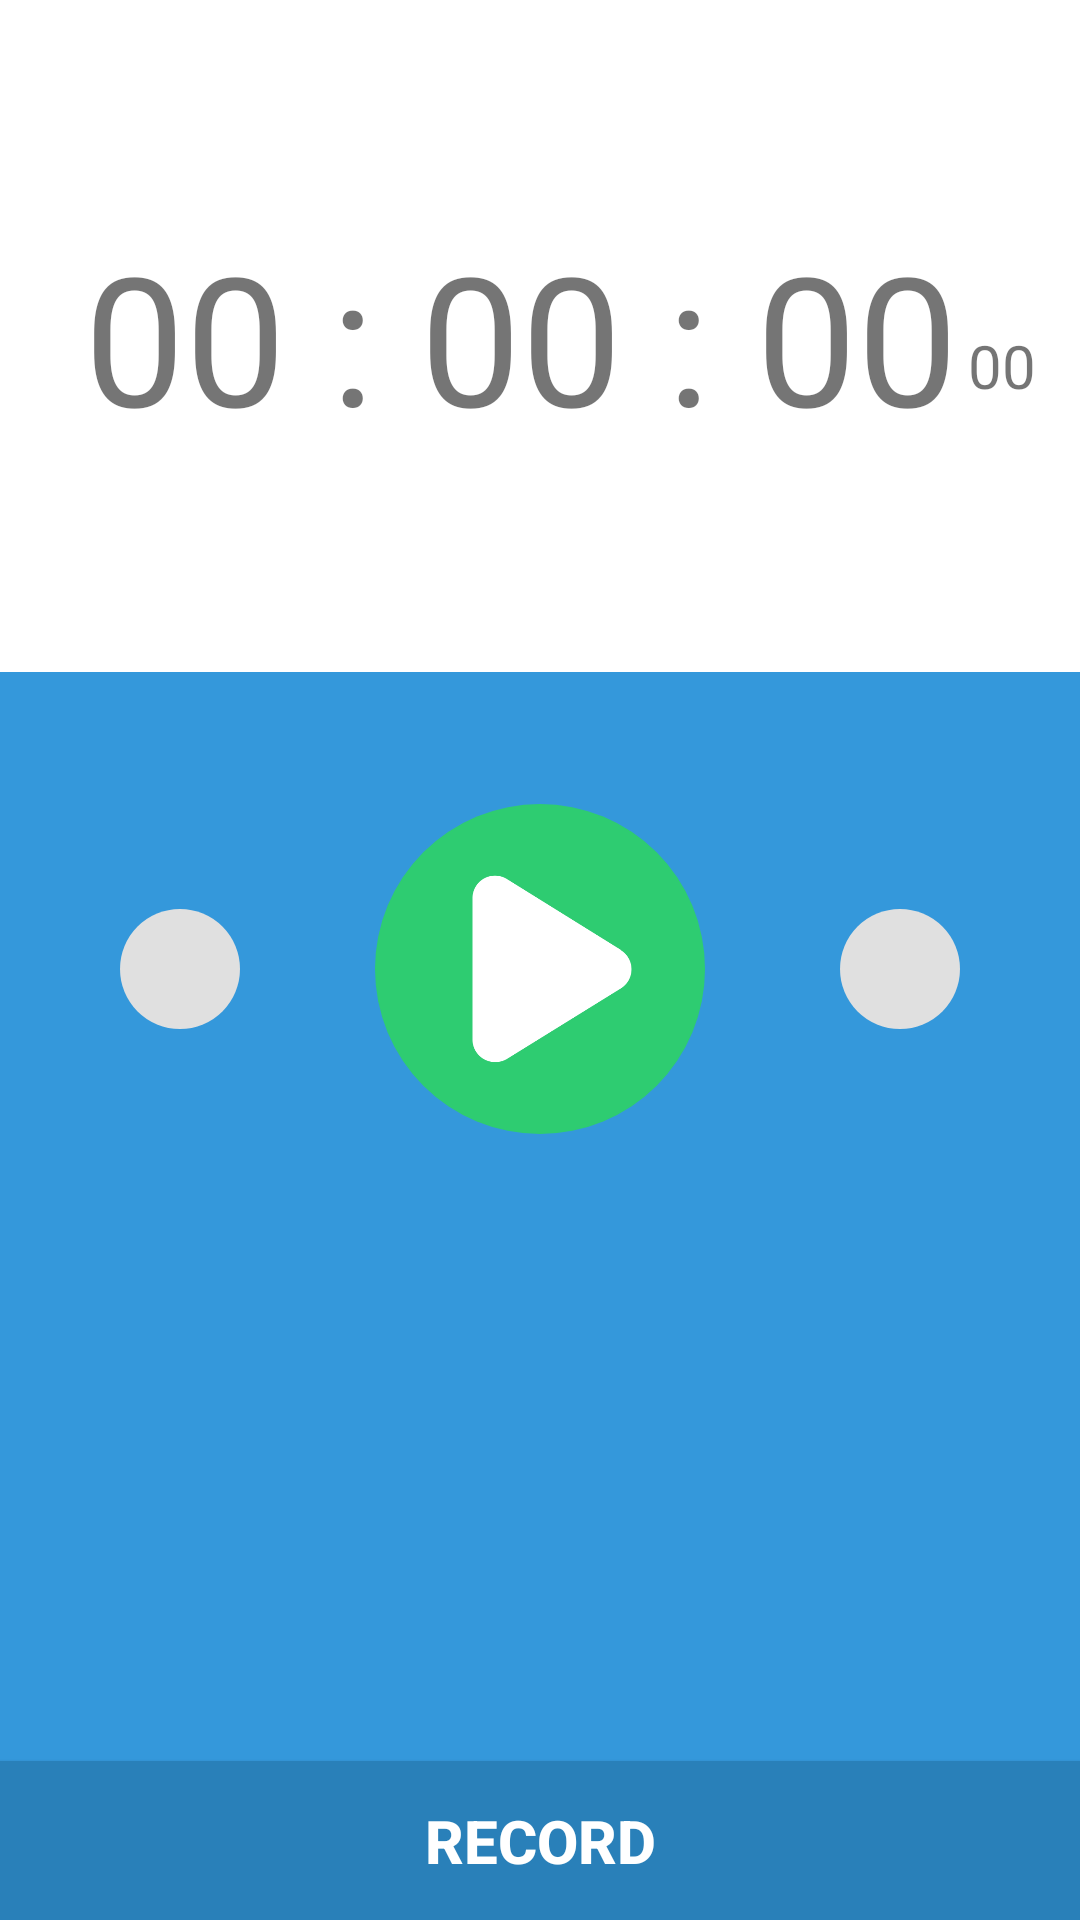

Icon bounding boxes for this 1080px x 1920px phone screenshot, format bbox=(x1, y1, x2, y2):
play custom: bbox=(375, 804, 705, 1134)
